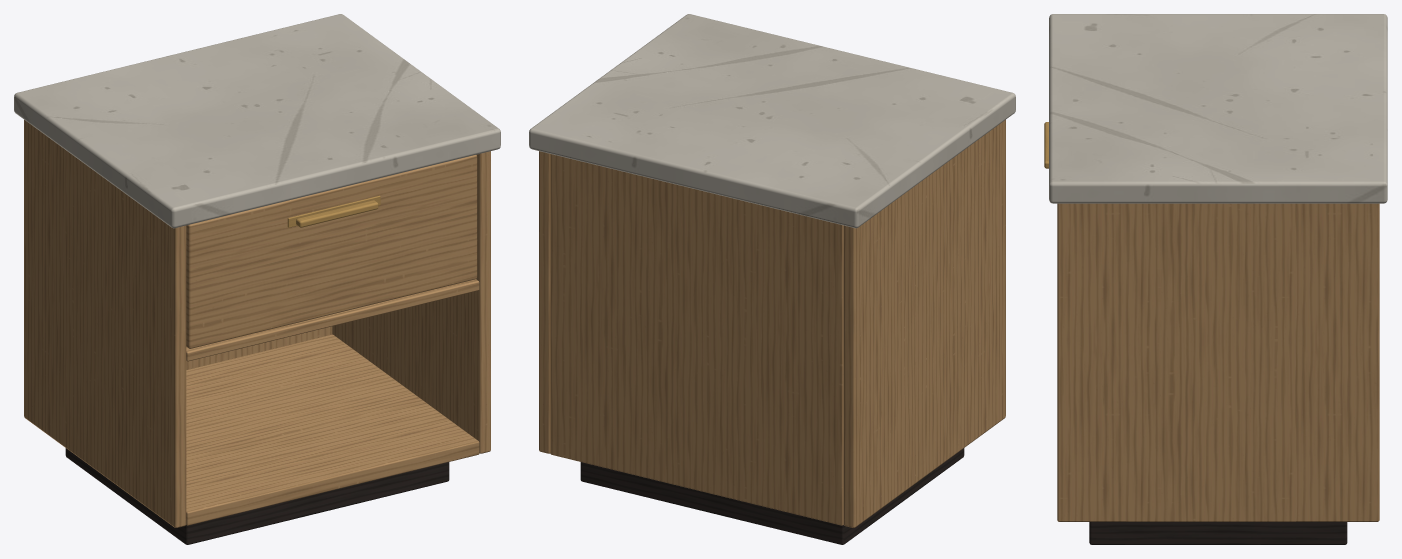
The model's file is nightstand.glb.
The picture shows the model from 3 angles, left to right: view 1: azimuth 30°, elevation 25°; view 2: azimuth 150°, elevation 25°; view 3: azimuth 270°, elevation 25°; orthographic projection. The views are drawn at different scales.
Parts seen in each view (by area): view 1: top_stone_pale_0, carcass_wood_oak_0, carcass_wood_oak_3, drawer_wood_oak_0, carcass_wood_oak_1, carcass_wood_ebony_5, carcass_wood_oak_4, carcass_wood_oak_2, drawer_brass_2; view 2: carcass_wood_oak_2, top_stone_pale_0, carcass_wood_oak_0, carcass_wood_ebony_5, carcass_wood_oak_1; view 3: carcass_wood_oak_1, top_stone_pale_0, carcass_wood_ebony_5.
Part boxes in pixels (x1=…): top_stone_pale_0: x1=14, y1=14, x2=500, y2=228; carcass_wood_oak_0: x1=24, y1=120, x2=186, y2=527; carcass_wood_oak_3: x1=186, y1=334, x2=479, y2=525; drawer_wood_oak_0: x1=186, y1=155, x2=477, y2=348; carcass_wood_oak_1: x1=332, y1=151, x2=490, y2=453; carcass_wood_ebony_5: x1=65, y1=448, x2=449, y2=544; carcass_wood_oak_4: x1=186, y1=279, x2=479, y2=361; carcass_wood_oak_2: x1=186, y1=326, x2=332, y2=369; drawer_brass_2: x1=287, y1=195, x2=380, y2=227; carcass_wood_oak_2: x1=550, y1=154, x2=843, y2=525; top_stone_pale_0: x1=529, y1=14, x2=1015, y2=228; carcass_wood_oak_0: x1=843, y1=120, x2=1005, y2=527; carcass_wood_ebony_5: x1=580, y1=448, x2=964, y2=544; carcass_wood_oak_1: x1=539, y1=151, x2=550, y2=453; carcass_wood_oak_1: x1=1057, y1=203, x2=1379, y2=521; top_stone_pale_0: x1=1049, y1=14, x2=1387, y2=203; carcass_wood_ebony_5: x1=1089, y1=522, x2=1347, y2=544.
Size of what is drawn, in the model's own units: 0.5 by 0.52 by 0.426.
Materials: 7 (7 with a texture image).
